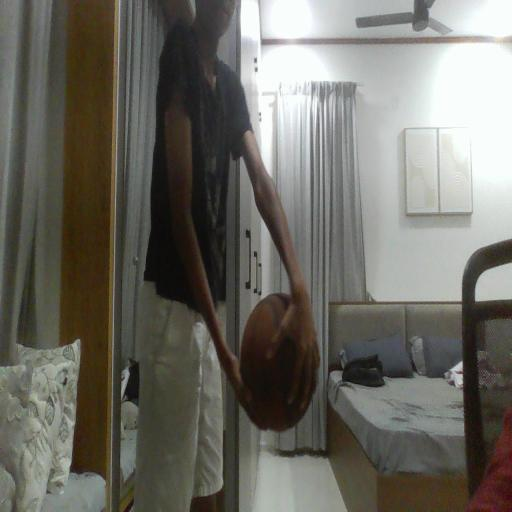basketball: (241, 294, 304, 430)
